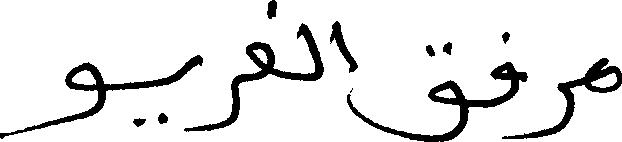X: (0, 57, 106, 141), (428, 37, 466, 141), (492, 27, 518, 141), (536, 75, 574, 141), (333, 16, 357, 120), (246, 0, 272, 86), (211, 70, 240, 134), (585, 53, 621, 97), (300, 18, 322, 85), (190, 50, 202, 135)
